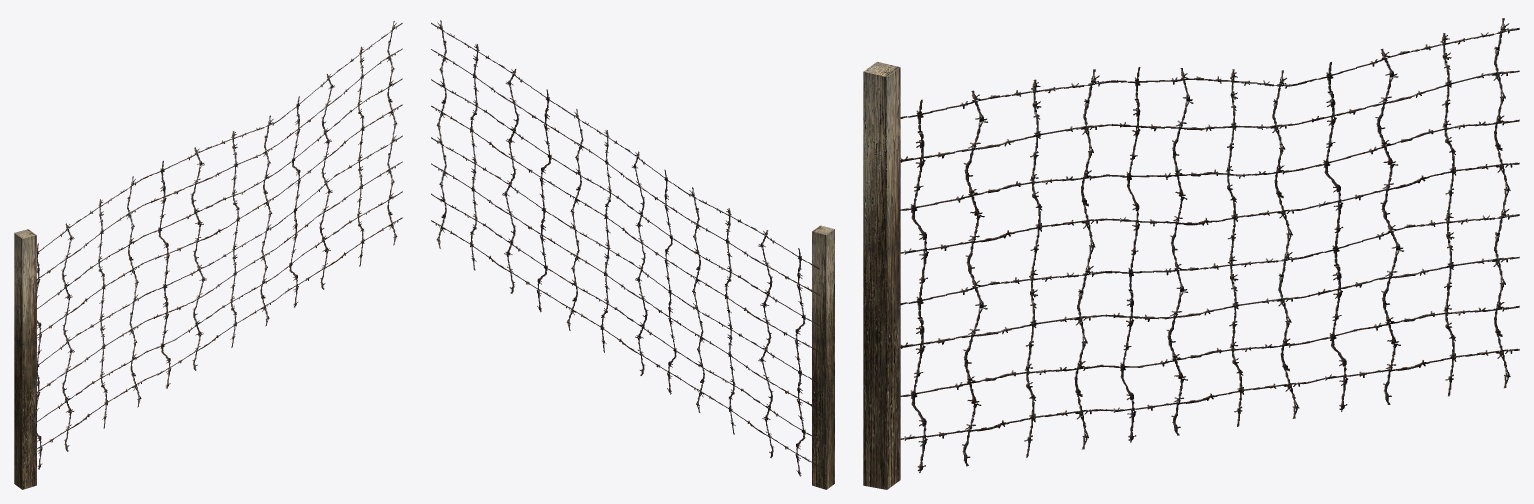
The model's file is BFence2.glb.
The picture shows the model from 3 angles, left to right: view 1: azimuth 30°, elevation 25°; view 2: azimuth 150°, elevation 25°; view 3: azimuth 330°, elevation 25°; orthographic projection. The views are drawn at different scales.
Visible parts, largest first — view 1: _BFence2; view 2: _BFence2; view 3: _BFence2.
Boxes of the visible parts, x1,y1,x2,y2 form: _BFence2: [14, 21, 402, 489]; _BFence2: [431, 20, 834, 489]; _BFence2: [863, 18, 1519, 489].
Size of the model in its own units: 4.06 by 3.74 by 0.2752.
Materials: 2 (2 with a texture image).
